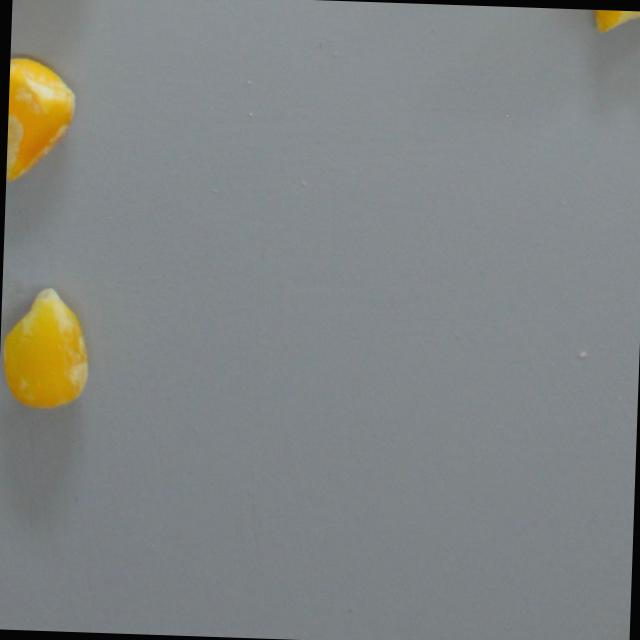no_canjicado: (590, 9, 640, 47)
pelicula: (0, 287, 90, 412), (5, 56, 77, 185)
